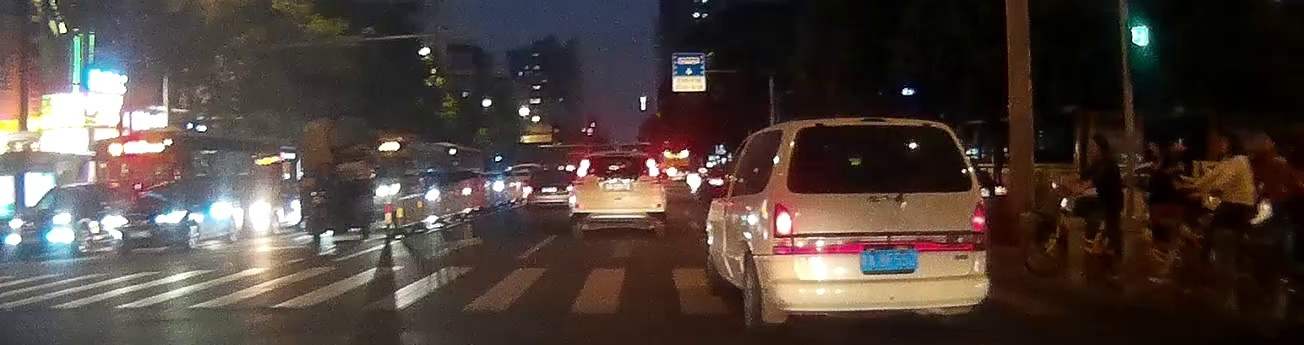L_light: (772, 203, 795, 254), (573, 159, 590, 184)
R_light: (971, 201, 988, 251), (646, 157, 661, 184)
T_light: (862, 124, 892, 133), (611, 155, 626, 161)
night-left: (771, 118, 990, 332)
night-no: (569, 151, 667, 238)
